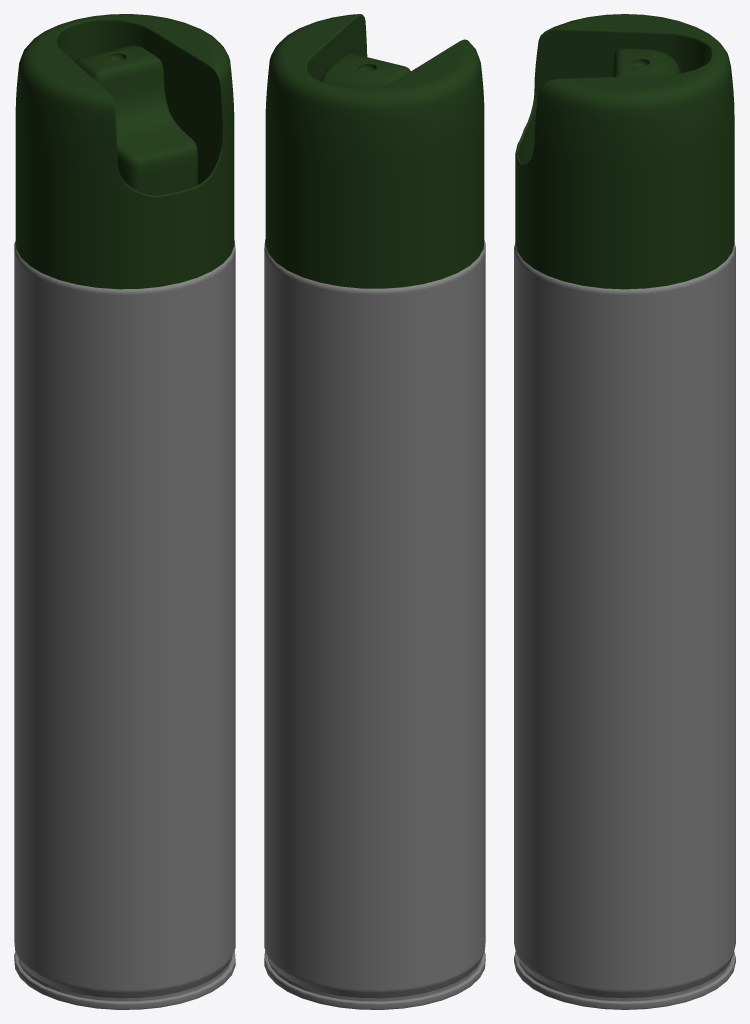
File: air_freshener.FBX
3 views of the same model, side by side, from view 1: azimuth 30°, elevation 25°; view 2: azimuth 150°, elevation 25°; view 3: azimuth 270°, elevation 25° (orthographic).
Parts seen in each view (by area): view 1: M_AirFreshener; view 2: M_AirFreshener; view 3: M_AirFreshener.
Boxes of the visible parts, x1=… form: M_AirFreshener: x1=14, y1=14, x2=235, y2=1009; M_AirFreshener: x1=264, y1=14, x2=485, y2=1009; M_AirFreshener: x1=514, y1=14, x2=735, y2=1009.
Bounding box in the file's own units: 5.3 × 24 × 5.3.
